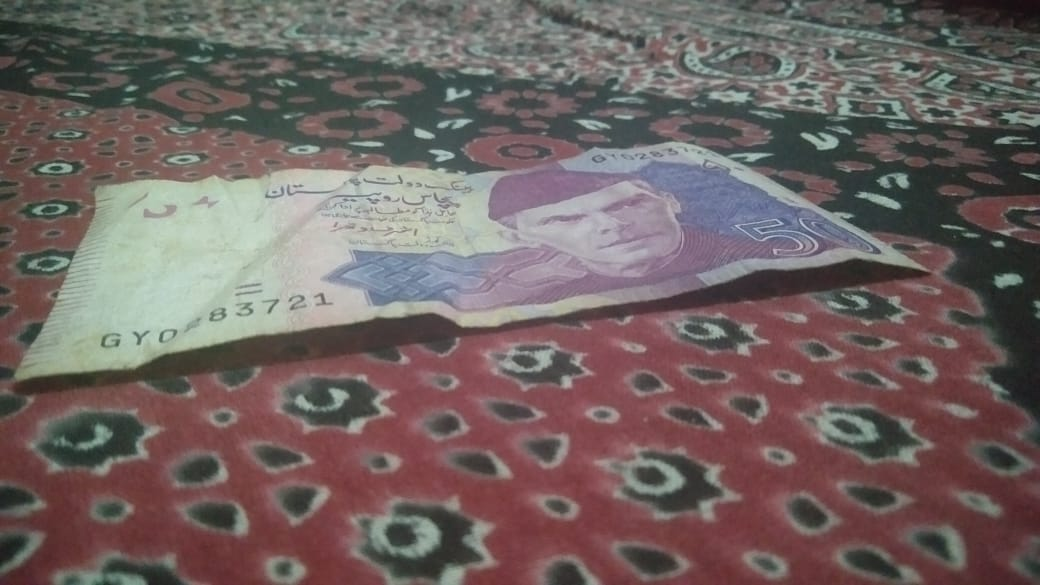50 rupee: (18, 102, 931, 401)
